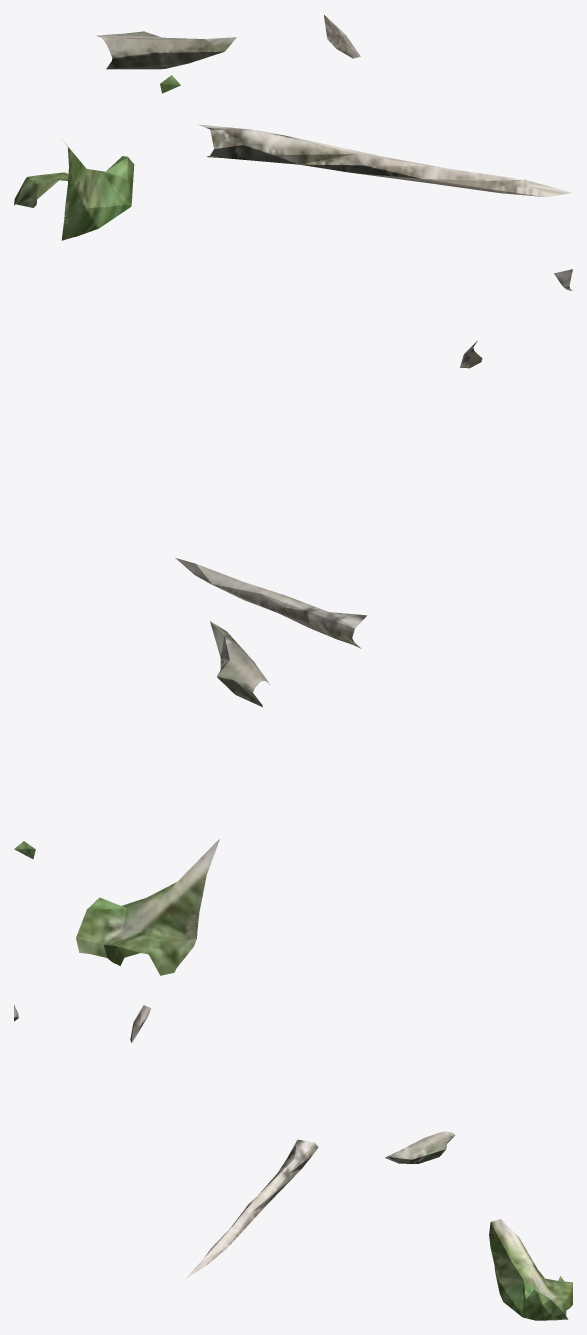
3 views of the same model, one above another, from view 1: azimuth 30°, elevation 25°; view 2: azimuth 150°, elevation 25°; view 3: azimuth 270°, elevation 25° (orthographic). The views are drawn at different scales.
Bounding box in the file's own units: 1.15 × 1.65 × 2.95.
Materials: 1 (1 with a texture image).
